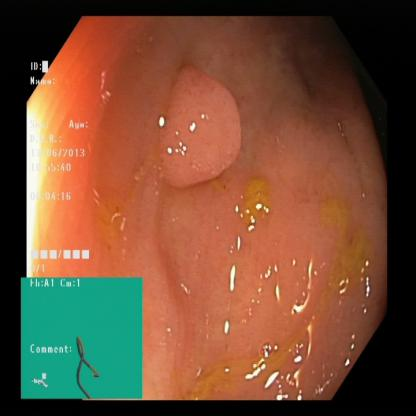Labels: (26, 56, 95, 278), (22, 274, 143, 400)
Polyps: (162, 63, 242, 181)
